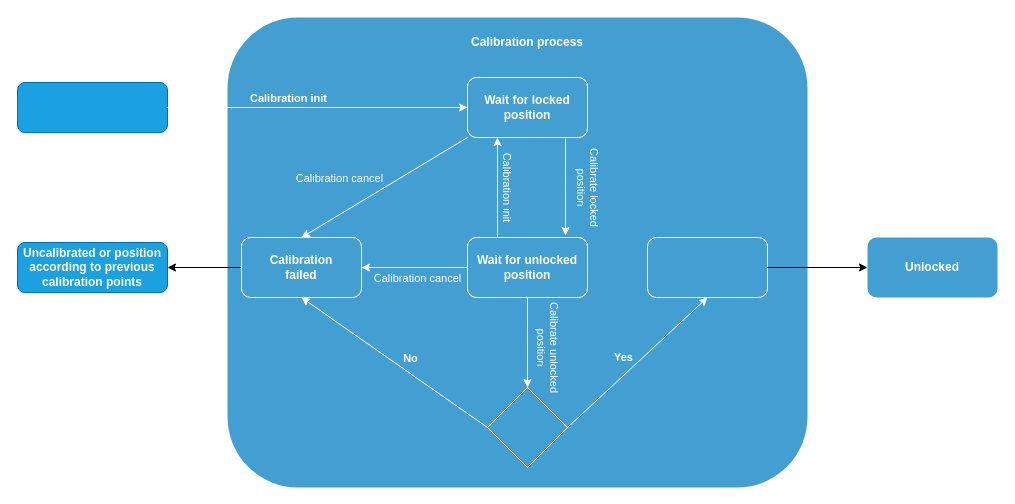
The diagram is 1015 pixels wide and 504 high, and some of its shapes have lost their labels. The shapes that lost their labels are listed below. From the top down, each one's centre as x and y in pixels, then its label:
(92,107): Initial stable state
(707,267): Calibration succeed
(527,427): Distance > 60 degrees
